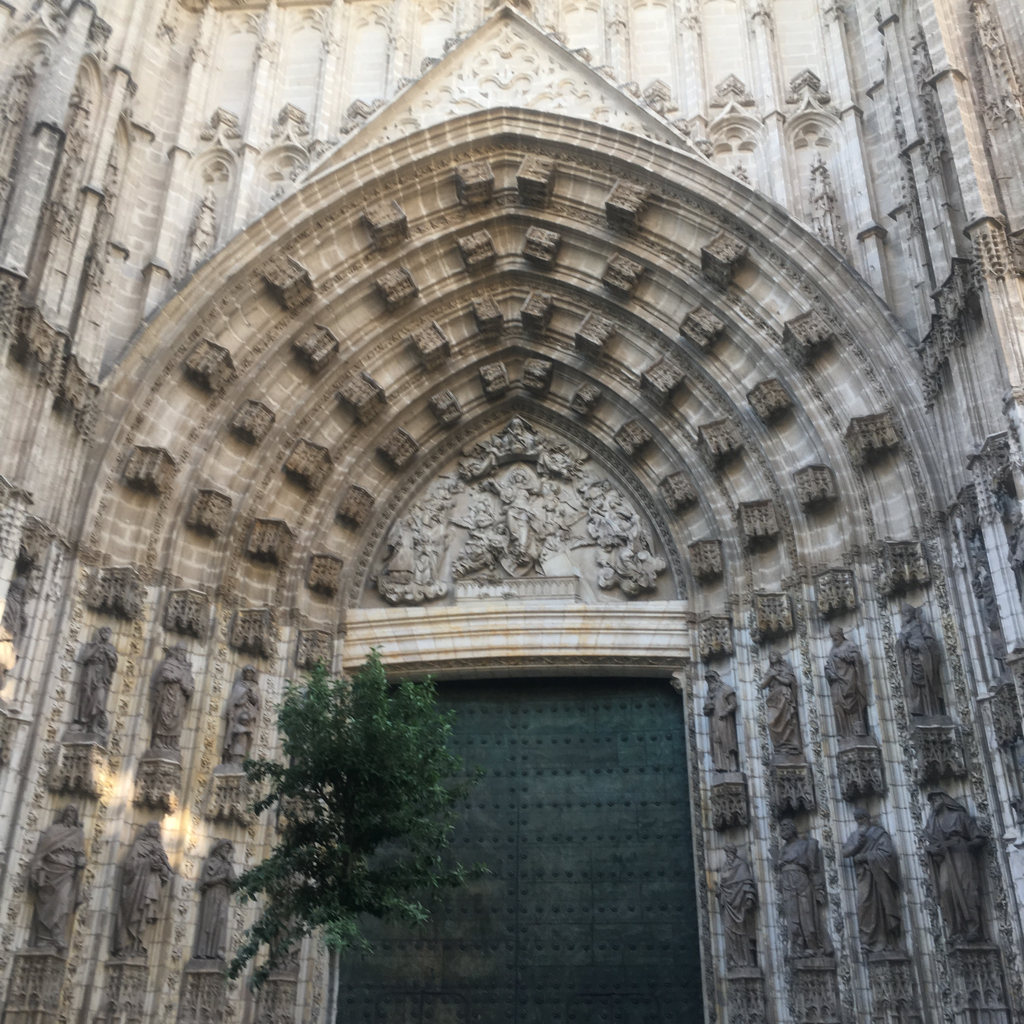arco-apuntado: (153, 201, 818, 598)
